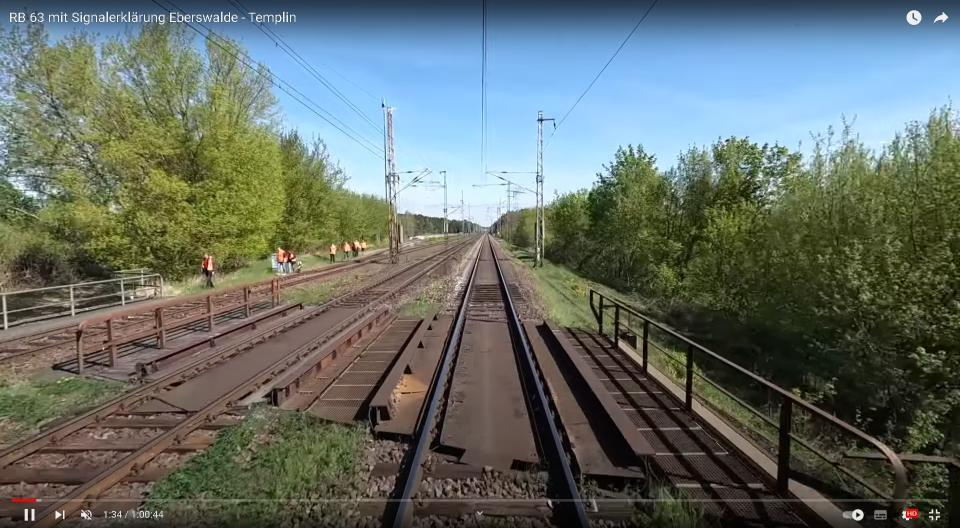Plant: (150, 408, 368, 500), (0, 373, 131, 448), (148, 502, 359, 528), (526, 264, 594, 329), (630, 502, 700, 528), (399, 299, 432, 319)
